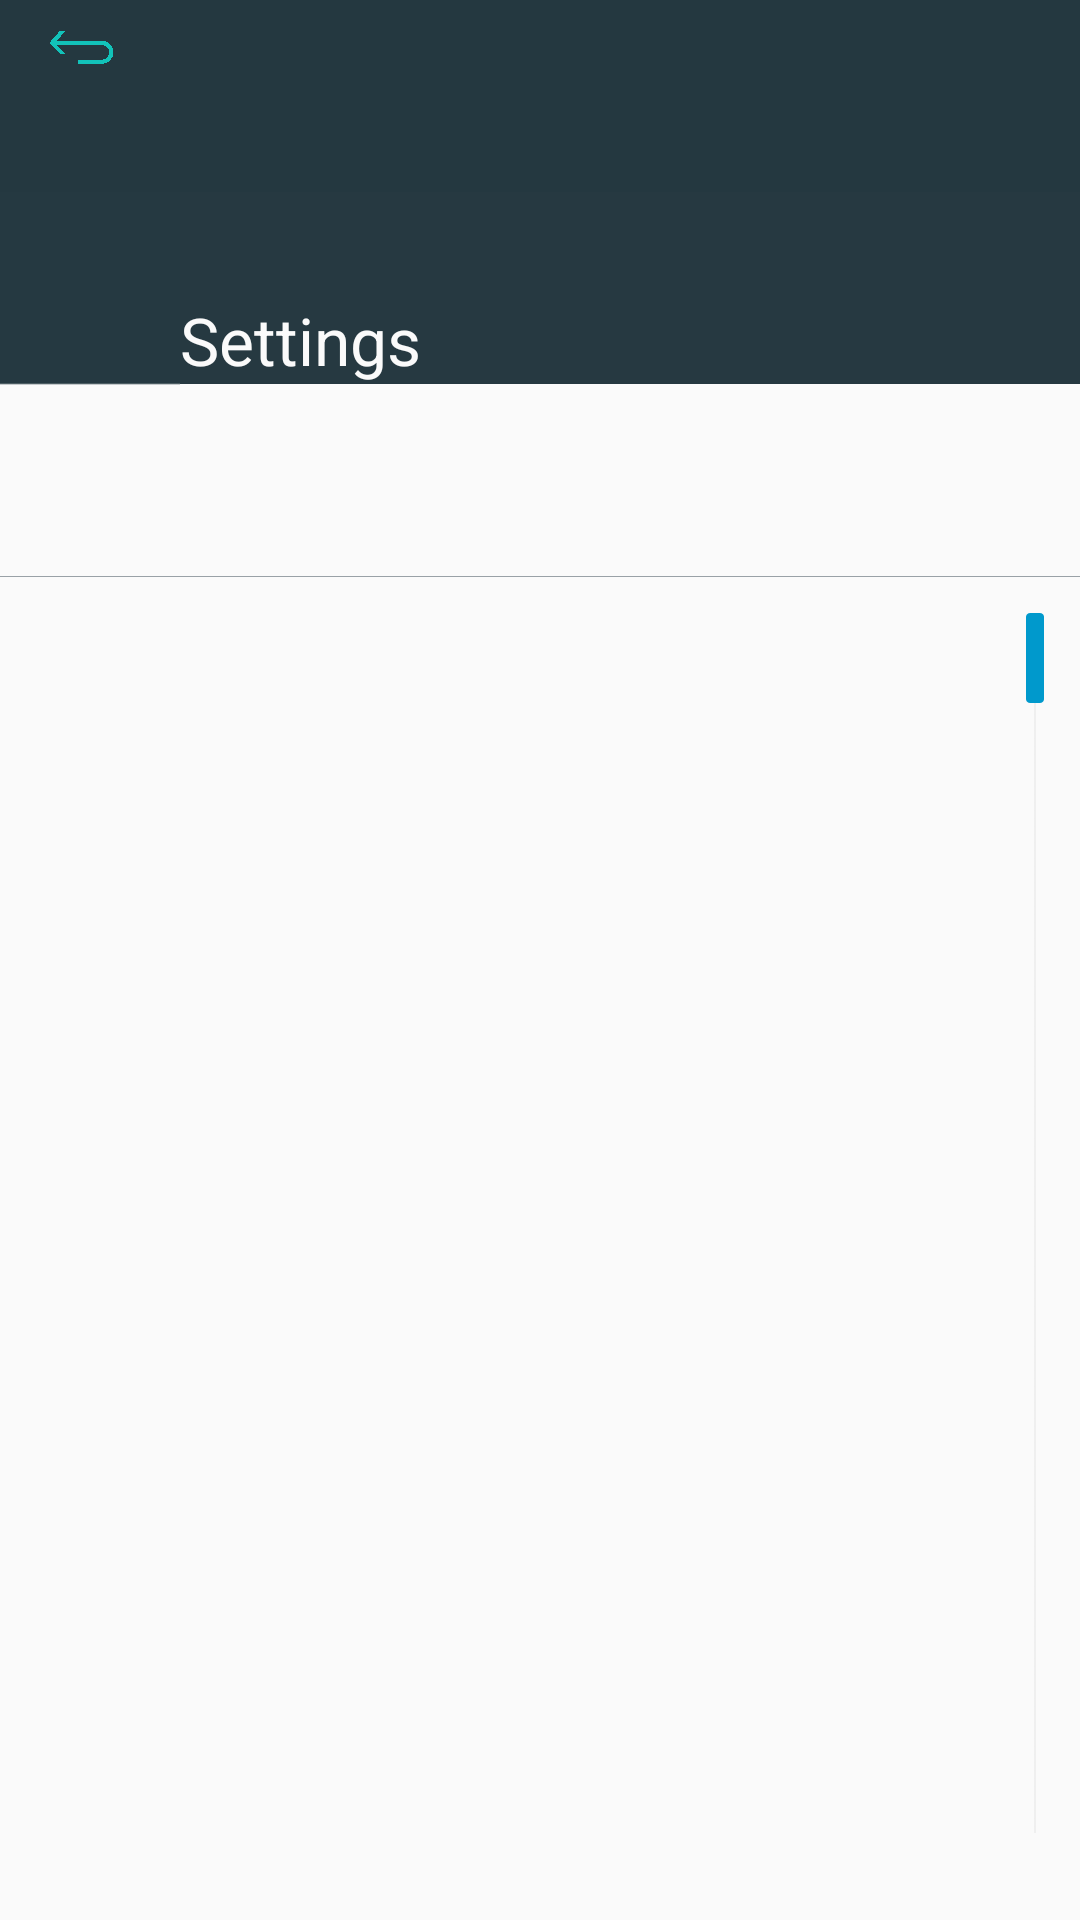

Where icons sit on this 1080w x 1920h app screen, as (x1, y1, x2, y2):
backbtn: (50, 31, 113, 64)
